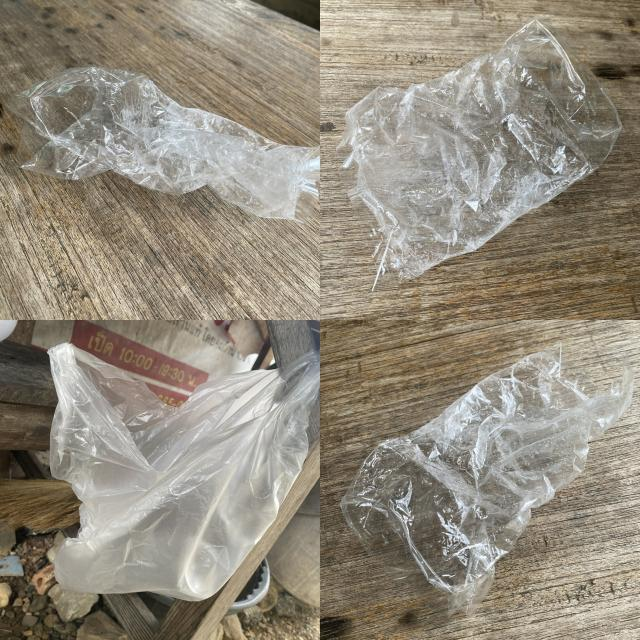Single-layer Plastic: (341, 346, 634, 615), (338, 20, 621, 289), (49, 344, 319, 601), (10, 68, 318, 221)
